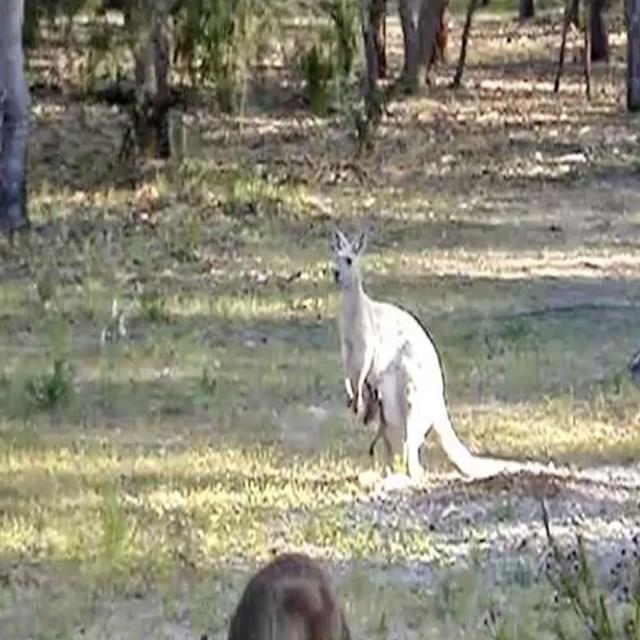kangaroo: (326, 226, 566, 484)
